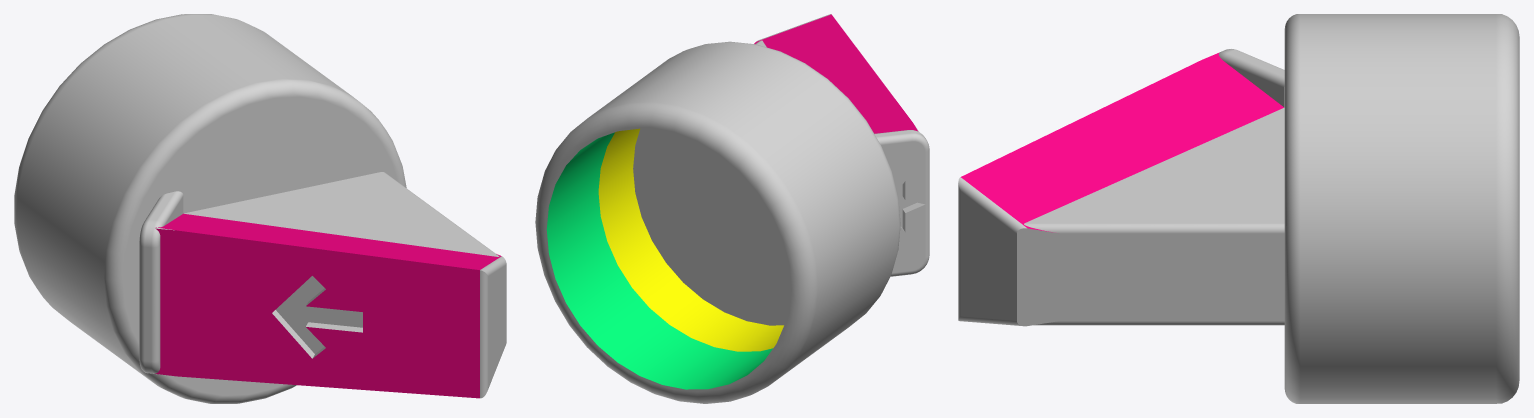
Rendered from 135_static.glb.
The picture shows the model from 3 angles, left to right: view 1: azimuth 30°, elevation 25°; view 2: azimuth 150°, elevation 25°; view 3: azimuth 270°, elevation 25°; orthographic projection. The views are drawn at different scales.
Visible parts, largest first — view 1: Body1; view 2: Body1; view 3: Body1.
Boxes of the visible parts, box(x1,y1,x2,y2) form: Body1: box(14, 14, 506, 403); Body1: box(535, 14, 929, 403); Body1: box(958, 14, 1519, 403).
Bounding box in the file's own units: 2.5 × 2.5 × 3.58.
